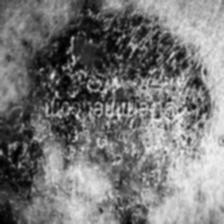Non-Cancerous Skin Condition: (0, 7, 218, 224)
